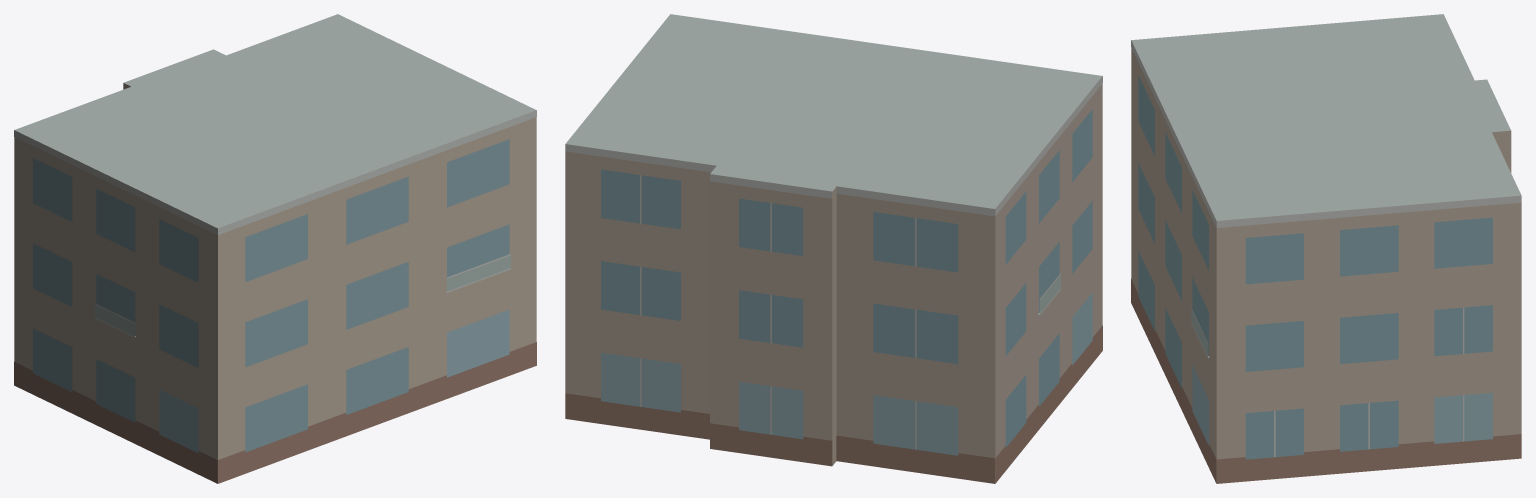
Rendered from survey-upis-32707332.glb.
The picture shows the model from 3 angles, left to right: view 1: azimuth 30°, elevation 25°; view 2: azimuth 150°, elevation 25°; view 3: azimuth 270°, elevation 25°; orthographic projection. The views are drawn at different scales.
Parts seen in each view (by area): view 1: survey-upis-32707332.tmp; view 2: survey-upis-32707332.tmp; view 3: survey-upis-32707332.tmp.
Part boxes in pixels (bbox=[...]): survey-upis-32707332.tmp: bbox=[14, 14, 536, 483]; survey-upis-32707332.tmp: bbox=[565, 14, 1102, 483]; survey-upis-32707332.tmp: bbox=[1131, 14, 1521, 483].
Size of the model in its own units: 15.47 by 9.15 by 12.33.
